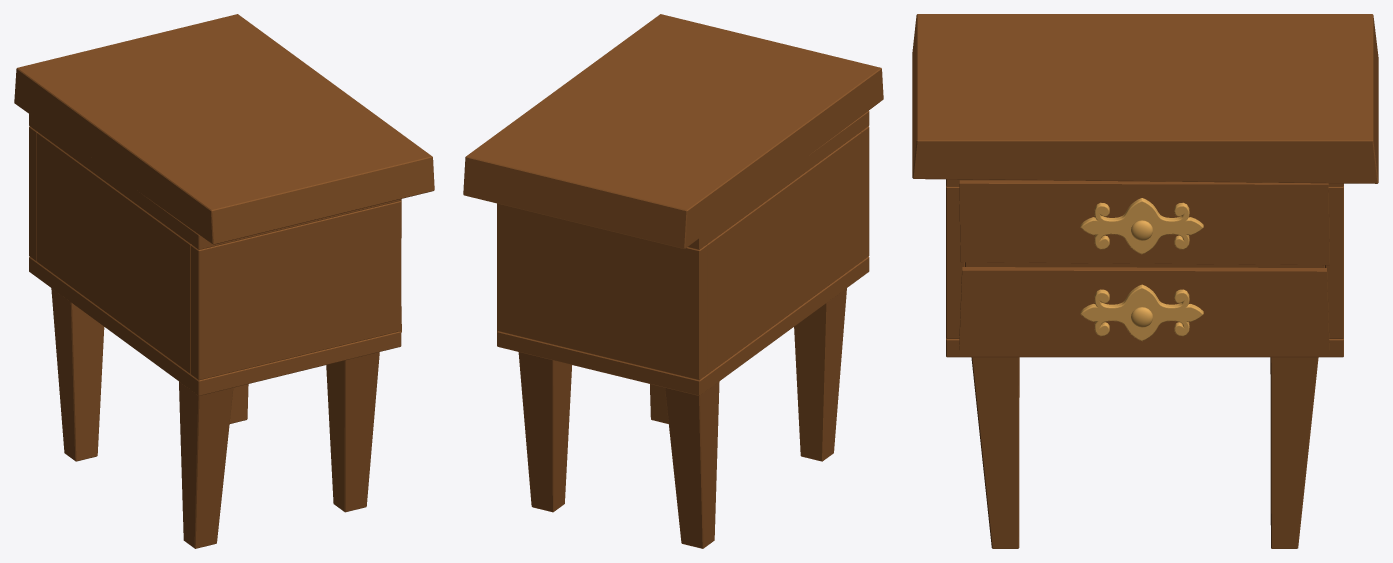
Rendered from Night_Stand.glb.
3 views of the same model, side by side, from view 1: azimuth 30°, elevation 25°; view 2: azimuth 150°, elevation 25°; view 3: azimuth 270°, elevation 25° (orthographic). The views are drawn at different scales.
Visible parts, largest first — view 1: Nightstand2; view 2: Nightstand2; view 3: Nightstand2.
Boxes of the visible parts, left/top/right/bottom form: Nightstand2: left=14, top=14, right=434, bottom=548; Nightstand2: left=463, top=14, right=883, bottom=548; Nightstand2: left=912, top=14, right=1378, bottom=548.
Size of the model in its own units: 0.6225 by 0.9766 by 0.9626.
3 materials, 2 textured.
